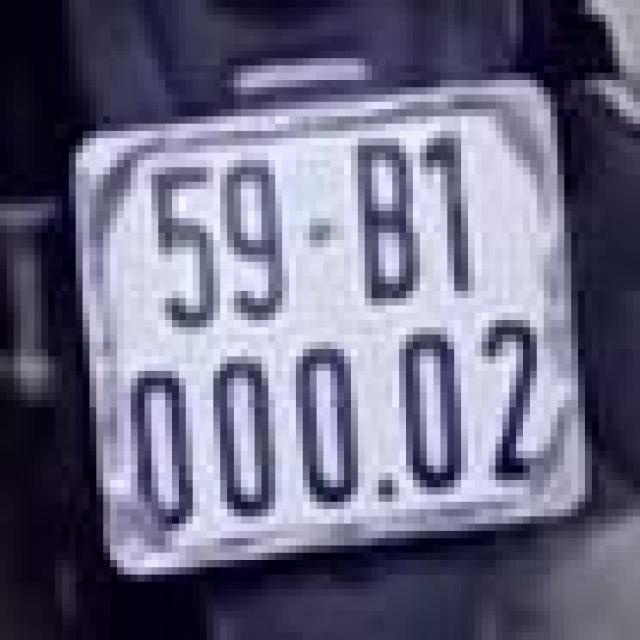0: (385, 316, 468, 498), (120, 364, 203, 538), (210, 349, 285, 524), (296, 335, 365, 509)
1: (419, 113, 488, 309)
2: (478, 313, 547, 487)
5: (131, 164, 220, 338)
9: (224, 149, 299, 324)
B: (337, 131, 434, 320)
